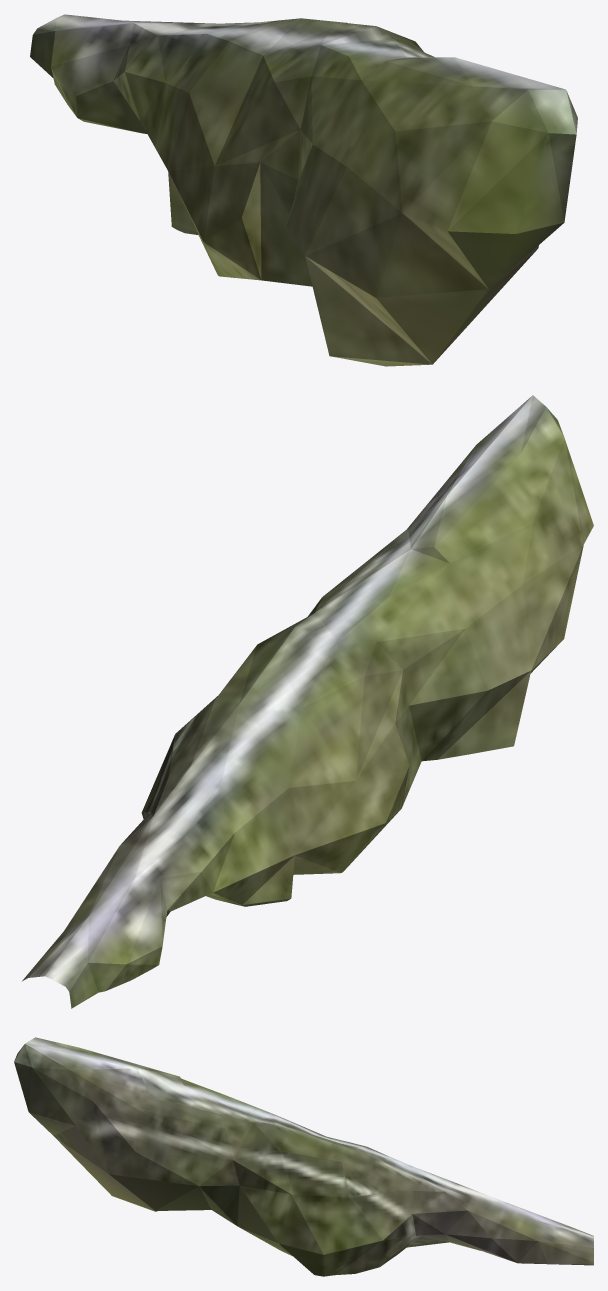
3 views of the same model, one above another, from view 1: azimuth 30°, elevation 25°; view 2: azimuth 150°, elevation 25°; view 3: azimuth 270°, elevation 25° (orthographic). The views are drawn at different scales.
Size of the model in its own units: 0.9765 by 1.19 by 3.21.
Materials: 1 (1 with a texture image).
